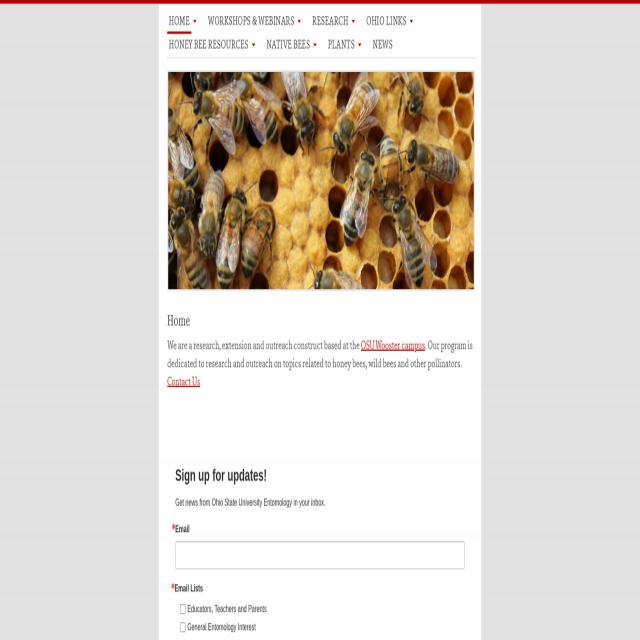button: (168, 72, 474, 289), (206, 10, 305, 34), (168, 34, 260, 57), (265, 34, 320, 57), (364, 10, 416, 34), (311, 9, 358, 33), (326, 34, 365, 57), (167, 10, 198, 34), (371, 33, 394, 57)
field: (175, 541, 465, 569), (180, 604, 186, 614), (180, 622, 186, 632)
